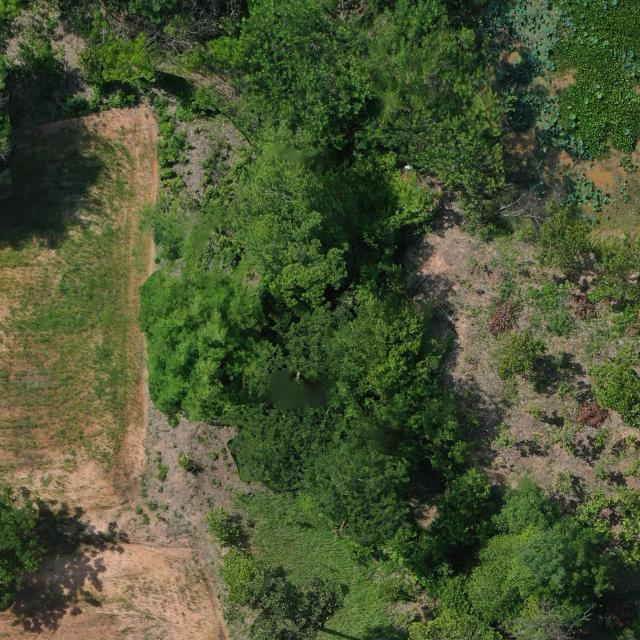tree: (512, 510, 640, 630), (0, 478, 53, 614)
tree_crowd: (134, 0, 481, 558)
